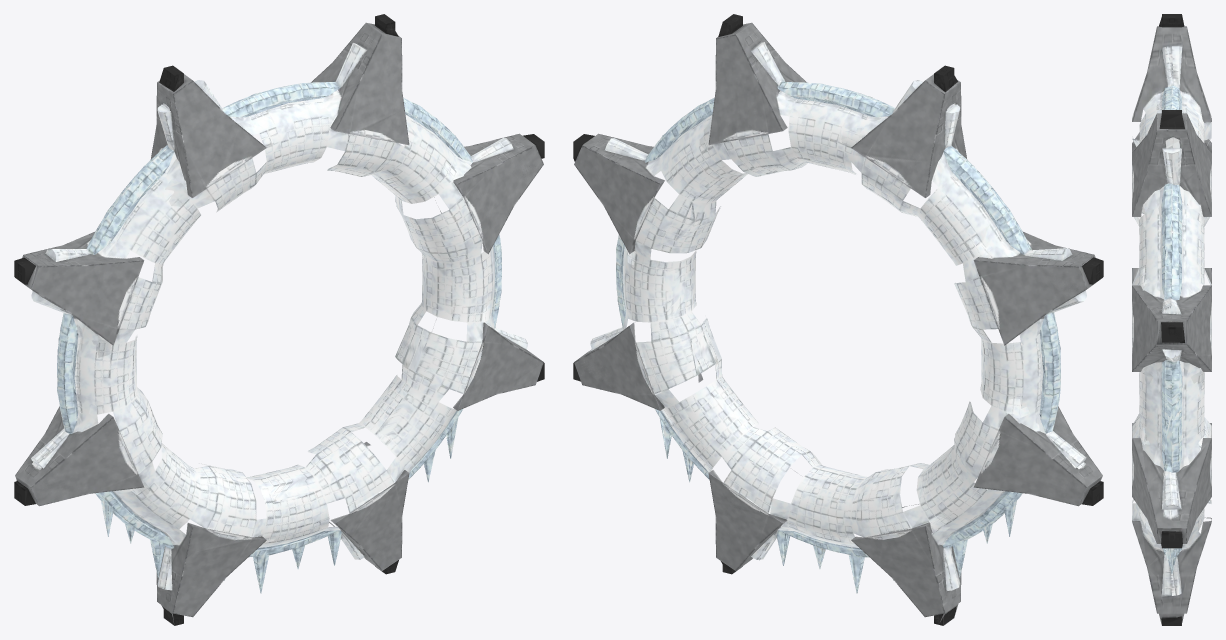
File: sd_prop_gate_buzul.glb
3 views of the same model, side by side, from view 1: azimuth 30°, elevation 25°; view 2: azimuth 150°, elevation 25°; view 3: azimuth 270°, elevation 25° (orthographic). The views are drawn at different scales.
Parts seen in each view (by area): view 1: LOD0_body, LOD1_body; view 2: LOD0_body, LOD1_body; view 3: LOD0_body, LOD1_body.
Boxes of the visible parts, <box> form: LOD0_body: <box>14,14,544,625</box>; LOD1_body: <box>14,16,544,625</box>; LOD0_body: <box>573,14,1103,625</box>; LOD1_body: <box>573,19,1103,624</box>; LOD0_body: <box>1132,14,1211,625</box>; LOD1_body: <box>1132,14,1211,625</box>.
Bounding box in the file's own units: 0.9882 × 1 × 0.1416.
Materials: 1 (1 with a texture image).
